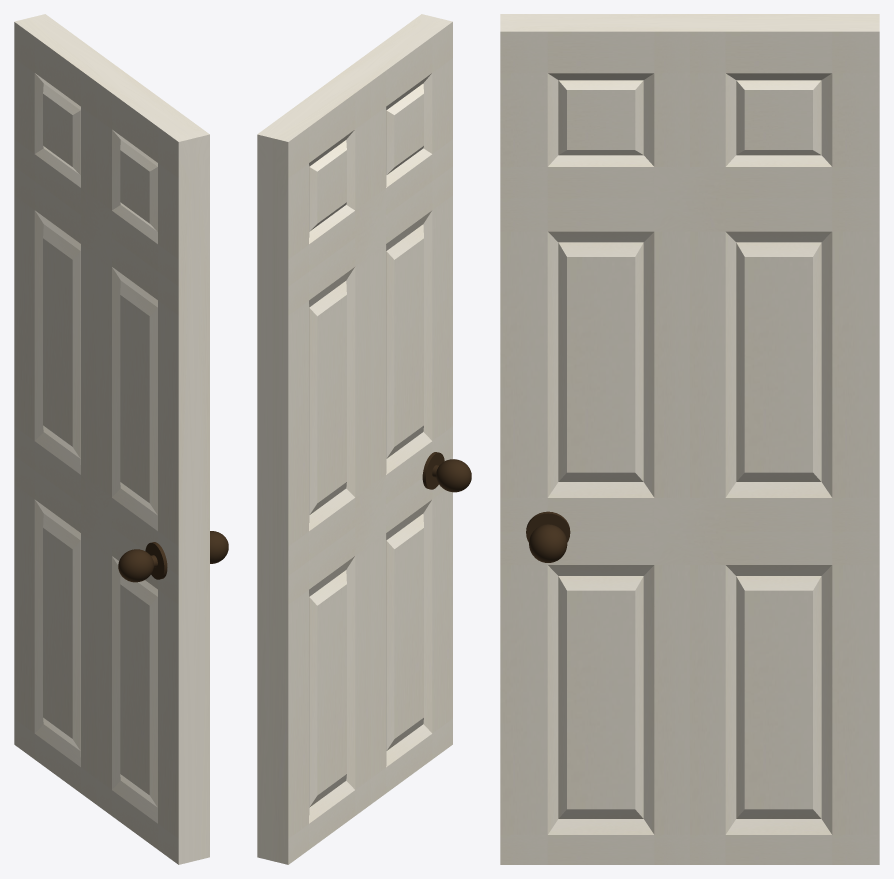
File: puertaPrinc.obj
The picture shows the model from 3 angles, left to right: view 1: azimuth 30°, elevation 25°; view 2: azimuth 150°, elevation 25°; view 3: azimuth 270°, elevation 25°; orthographic projection. The views are drawn at different scales.
Parts seen in each view (by area): view 1: frontDoor_Cube.005; view 2: frontDoor_Cube.005; view 3: frontDoor_Cube.005.
Boxes of the visible parts, <box> form: frontDoor_Cube.005: <box>14,14,228,864</box>; frontDoor_Cube.005: <box>257,14,471,864</box>; frontDoor_Cube.005: <box>500,14,879,864</box>.
Bounding box in the file's own units: 1.73 × 11.22 × 4.63.
2 materials, 2 textured.
